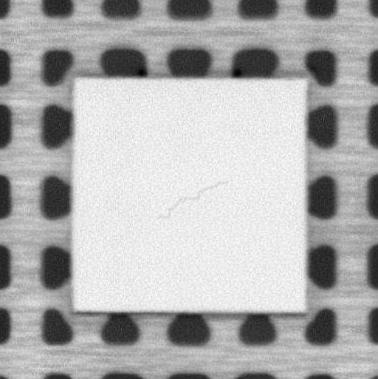DIE_CRACK: (157, 179, 233, 219)
